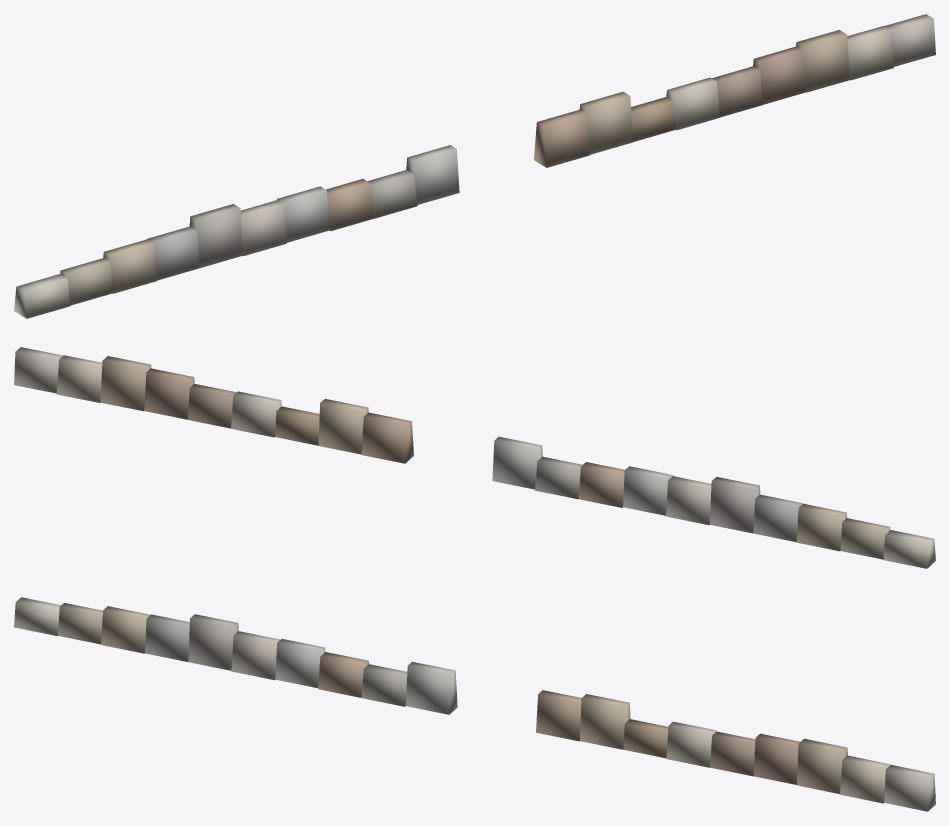
File: farm_39_34_collision.glb
The picture shows the model from 3 angles, top to bottom: view 1: azimuth 30°, elevation 25°; view 2: azimuth 150°, elevation 25°; view 3: azimuth 330°, elevation 25°; orthographic projection. The views are drawn at different scales.
Parts seen in each view (by area): view 1: geometry_0; view 2: geometry_0; view 3: geometry_0.
Boxes of the visible parts, box(x1,y1,x2,y2) form: geometry_0: box(14, 14, 935, 318); geometry_0: box(14, 347, 935, 568); geometry_0: box(14, 597, 935, 811).
Size of the model in its own units: 31.98 by 1.5 by 3.15.
